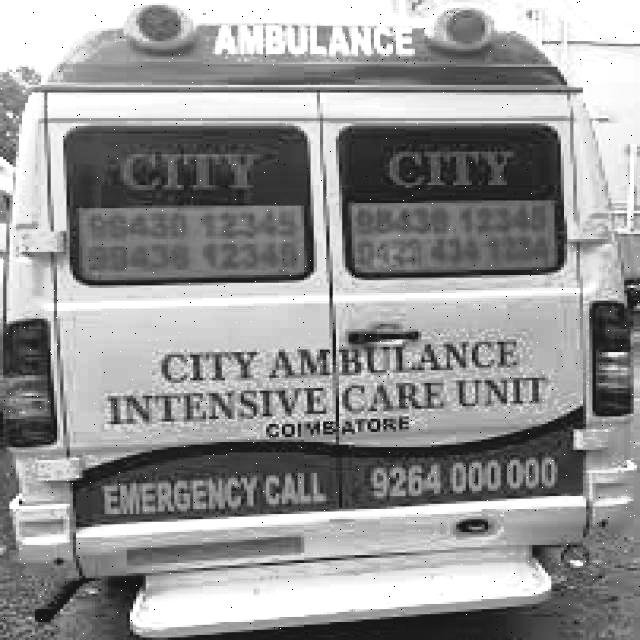LCV: (8, 27, 630, 565)
